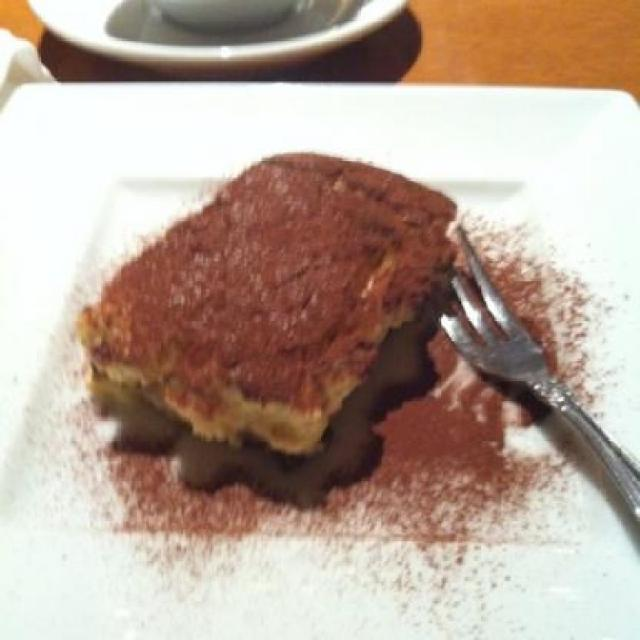Tiramisu: (49, 138, 449, 468)
